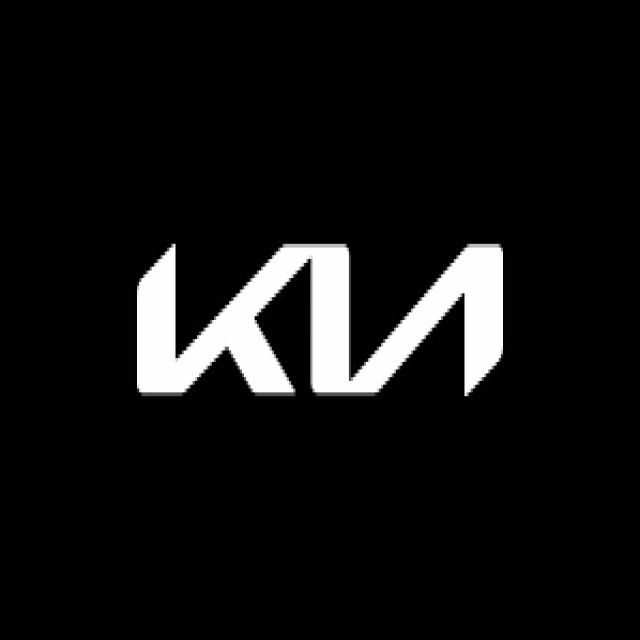kia: (132, 221, 526, 410)
